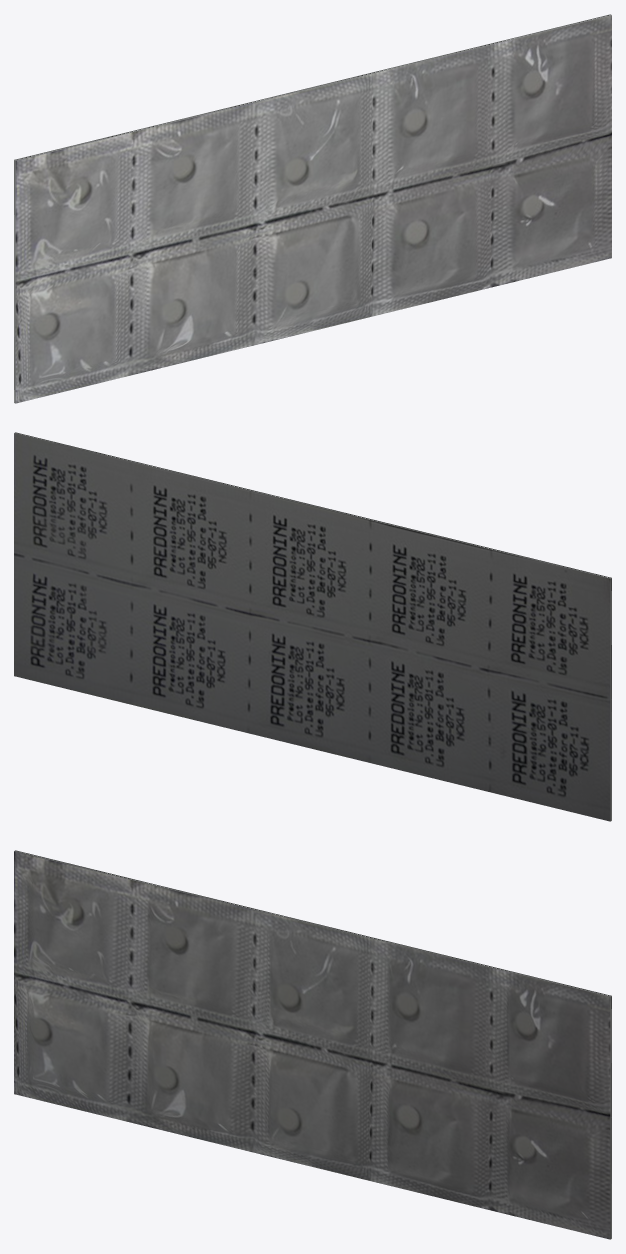
The model's file is 20140311GOPHDRGPT02251.fbx.
3 renders of one model, top to bottom at view 1: azimuth 30°, elevation 25°; view 2: azimuth 150°, elevation 25°; view 3: azimuth 330°, elevation 25°, orthographic.
Visible parts, largest first — view 1: 立方體.003; view 2: 立方體.003; view 3: 立方體.003.
Boxes of the visible parts, bbox=[...] form: 立方體.003: bbox=[14, 14, 611, 403]; 立方體.003: bbox=[14, 432, 611, 821]; 立方體.003: bbox=[14, 850, 611, 1239].
Size of the model in its own units: 19.25 by 7.49 by 0.2565.
1 material, 1 textured.
